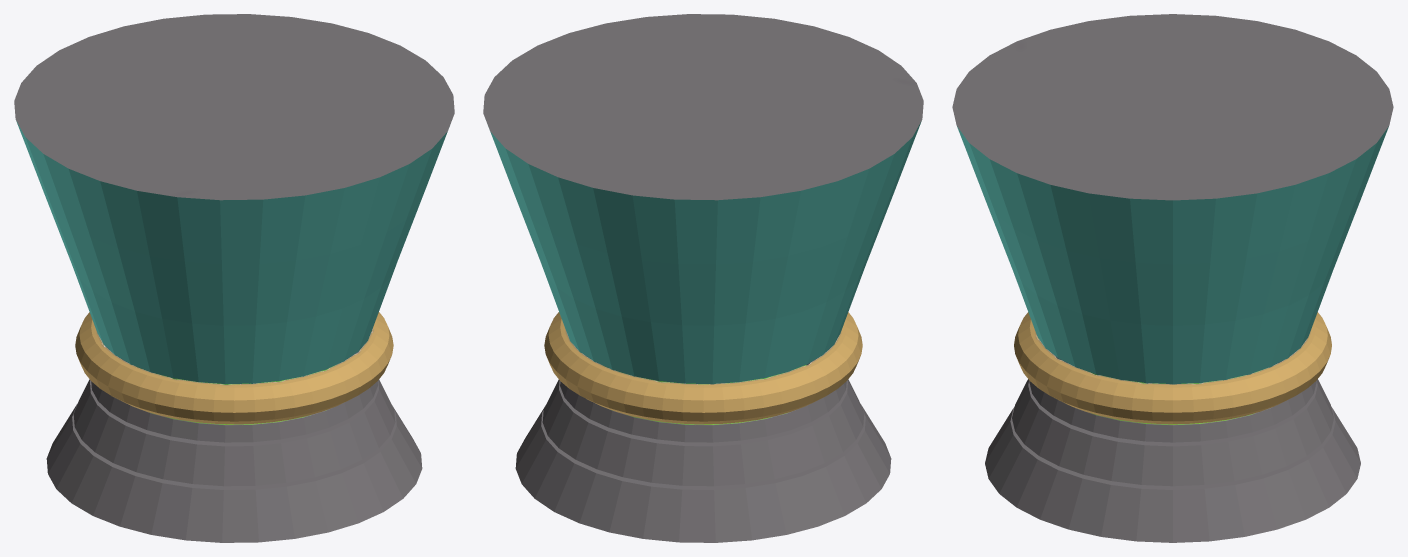
File: player_spawn.obj
3 views of the same model, side by side, from view 1: azimuth 30°, elevation 25°; view 2: azimuth 150°, elevation 25°; view 3: azimuth 270°, elevation 25° (orthographic).
Parts seen in each view (by area): view 1: 円柱; view 2: 円柱; view 3: 円柱.
Part boxes in pixels (bbox=[...]): 円柱: bbox=[14, 14, 454, 542]; 円柱: bbox=[483, 14, 923, 542]; 円柱: bbox=[952, 14, 1393, 542].
Bounding box in the file's own units: 4.63 × 4.13 × 4.63.
Materials: 1 (1 with a texture image).
